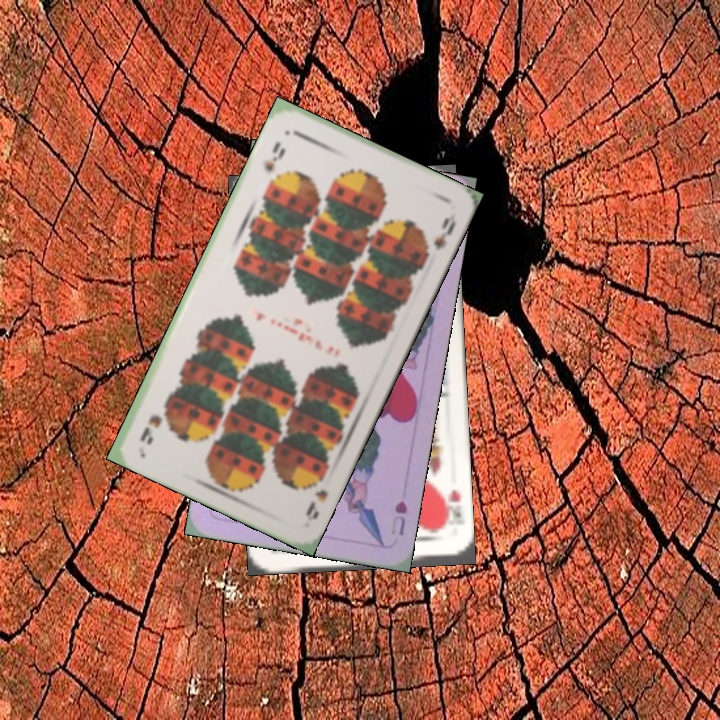HK: (437, 486, 464, 531)
HU: (387, 497, 410, 538)
S9: (301, 468, 331, 522), (260, 137, 288, 175)
